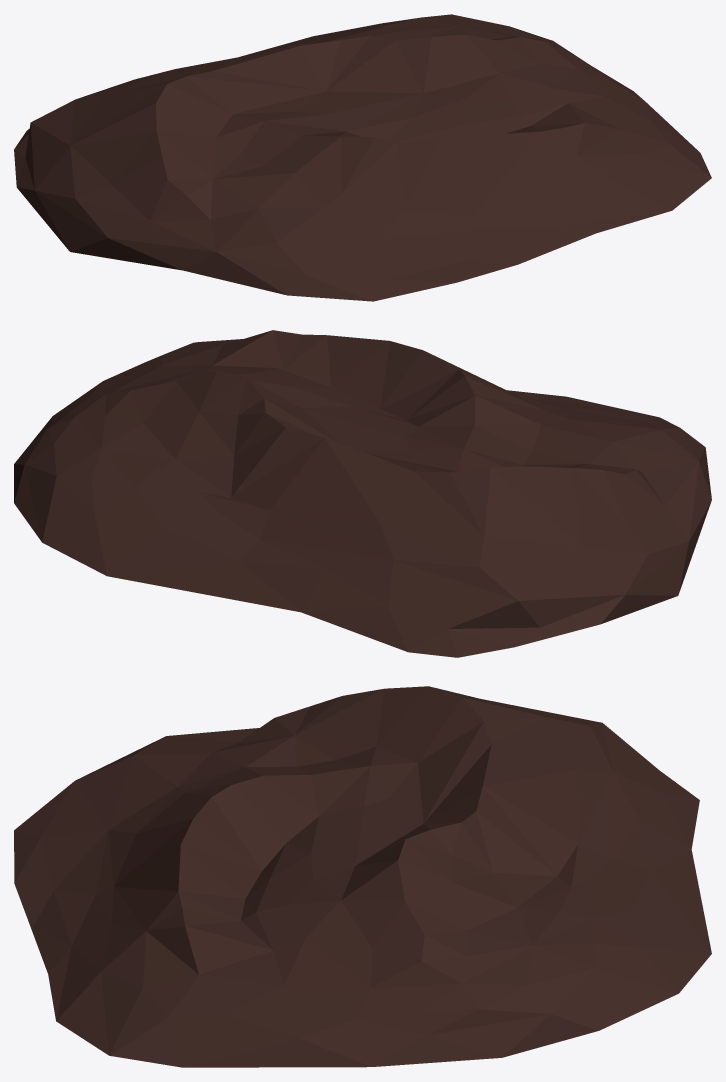
The model's file is Brown_sand_003.fbx.
3 renders of one model, top to bottom at view 1: azimuth 30°, elevation 25°; view 2: azimuth 150°, elevation 25°; view 3: azimuth 270°, elevation 25°, orthographic. The views are drawn at different scales.
Visible parts, largest first — view 1: Brown_sand_003; view 2: Brown_sand_003; view 3: Brown_sand_003.
Part boxes in pixels (<box>): Brown_sand_003: <box>14,14,711,301</box>; Brown_sand_003: <box>14,330,711,657</box>; Brown_sand_003: <box>14,686,711,1067</box>.
Size of the model in its own units: 3081 by 2643 by 596.
